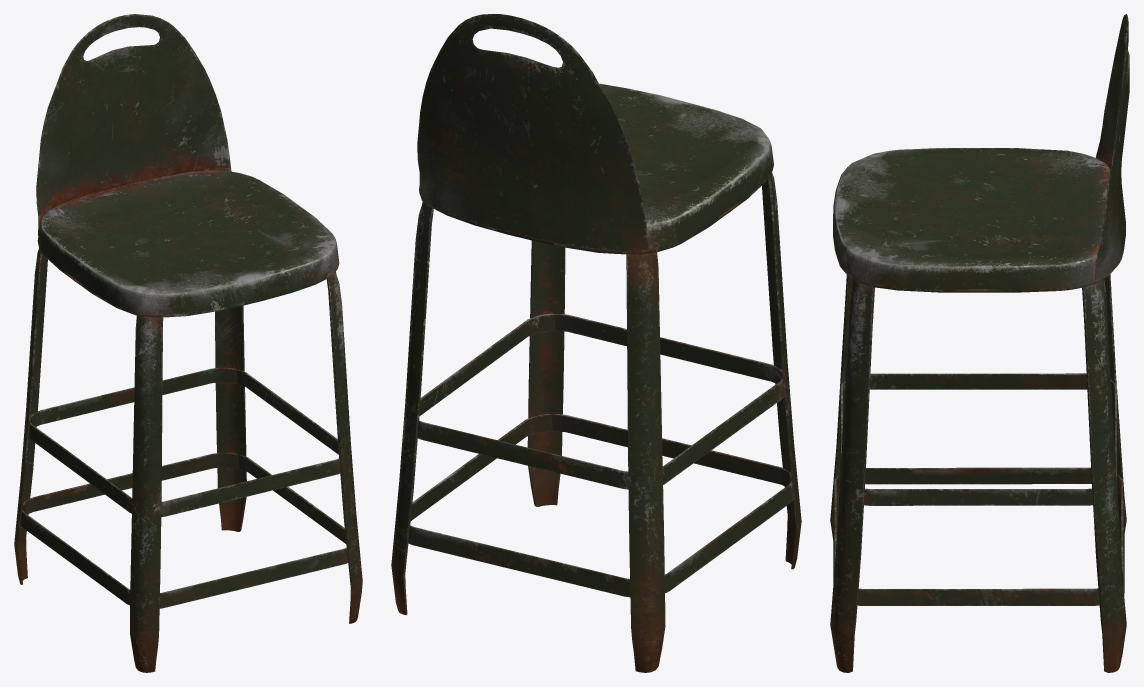
Rendered from metal_stool_03.glb.
The picture shows the model from 3 angles, left to right: view 1: azimuth 30°, elevation 25°; view 2: azimuth 150°, elevation 25°; view 3: azimuth 270°, elevation 25°; orthographic projection. The views are drawn at different scales.
Parts seen in each view (by area): view 1: metal_stool_03; view 2: metal_stool_03; view 3: metal_stool_03.
Boxes of the visible parts, box(x1,y1,x2,y2) form: metal_stool_03: box(14, 14, 362, 672); metal_stool_03: box(391, 14, 801, 672); metal_stool_03: box(830, 14, 1129, 672).
Size of the model in its own units: 0.4606 by 1.02 by 0.4699.
1 material, 1 textured.
